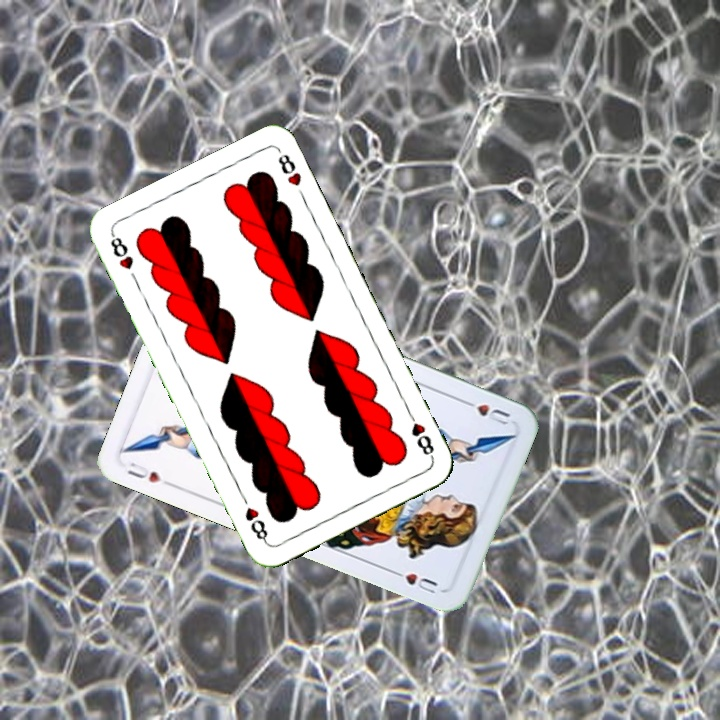H8: (403, 406, 437, 462), (106, 230, 136, 273)
HU: (457, 395, 513, 429), (123, 458, 164, 486)
